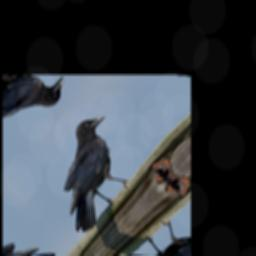Crow: (25, 107, 154, 238)
